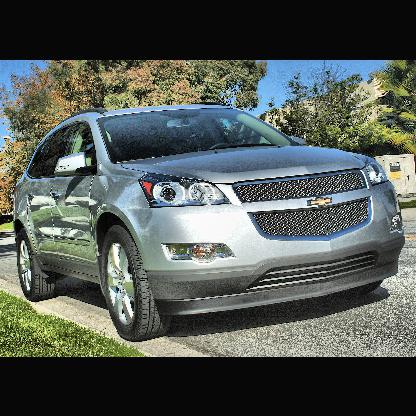Chevrolet Traverse SUV 2012: (12, 102, 407, 343)
